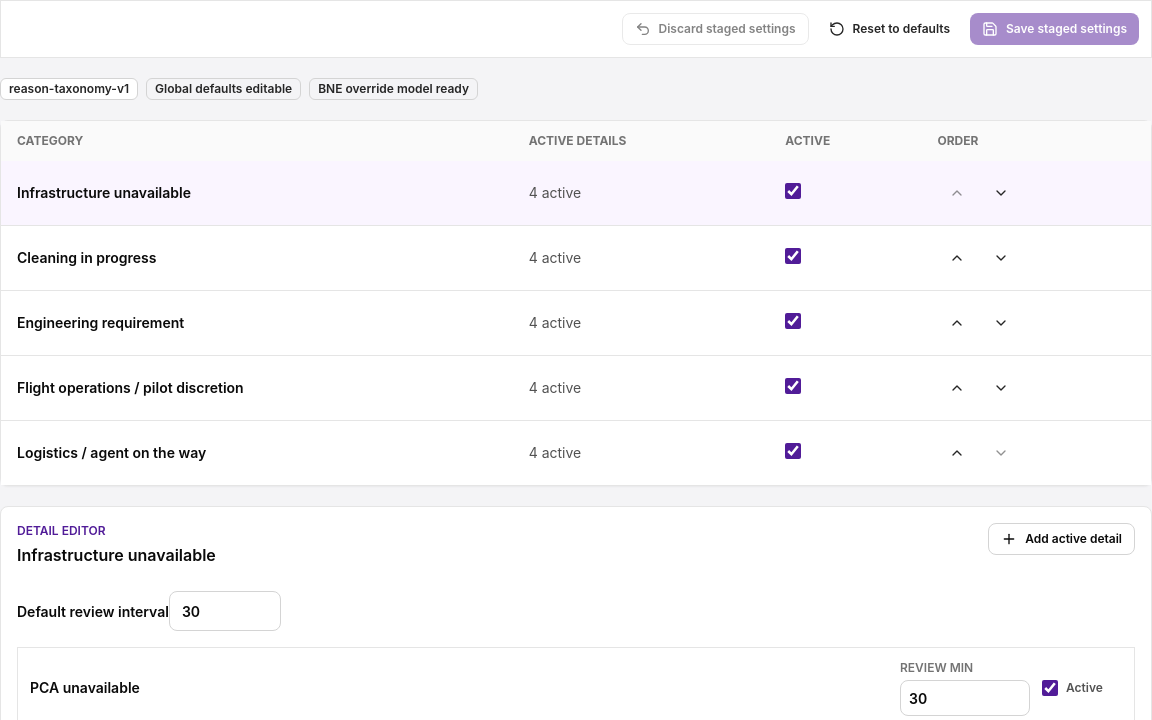
Scenario: ReasonSettingsPage › prevents saving when a category has more than four active details
Click the button "Add active detail" at (1062, 539), box [988,523,1135,555]
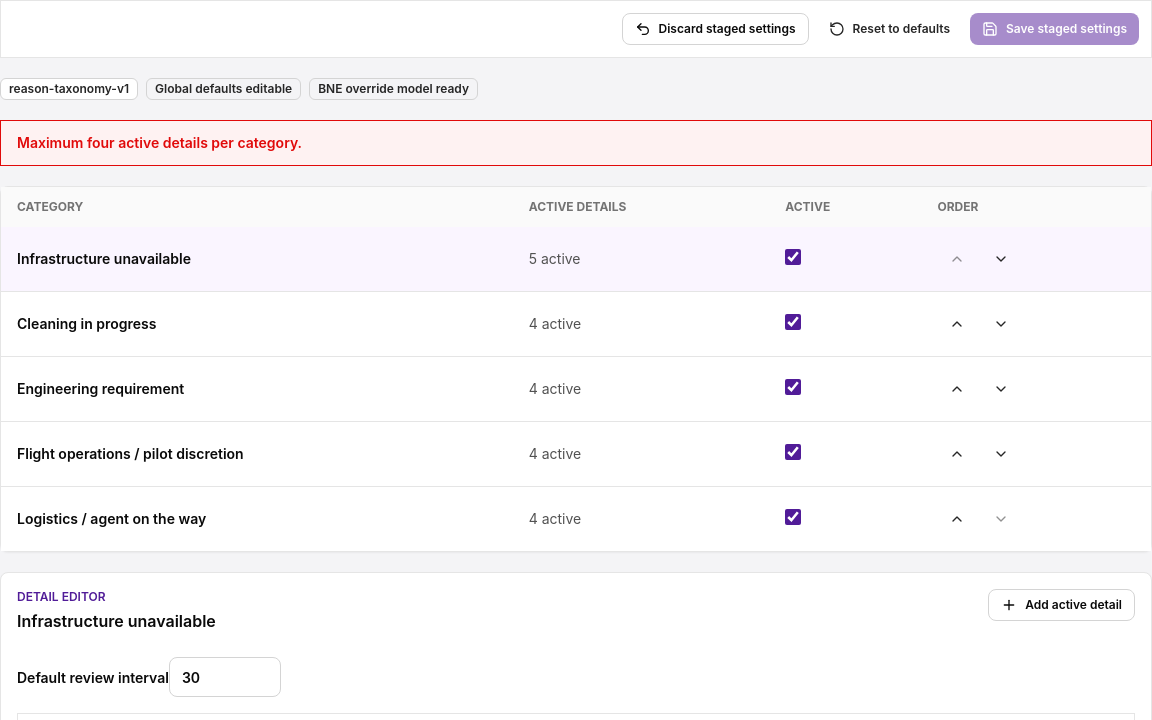
Expected: the button "Save staged settings" is disabled, [970,13,1139,45]
Expected: the text "Maximum four active details per category." is shown, [0,120,1151,166]
